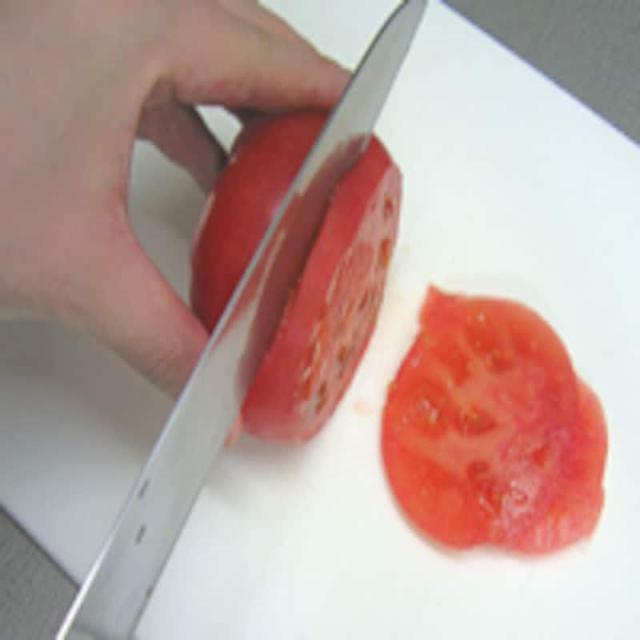Tomato: (374, 290, 620, 556), (241, 130, 432, 463)
